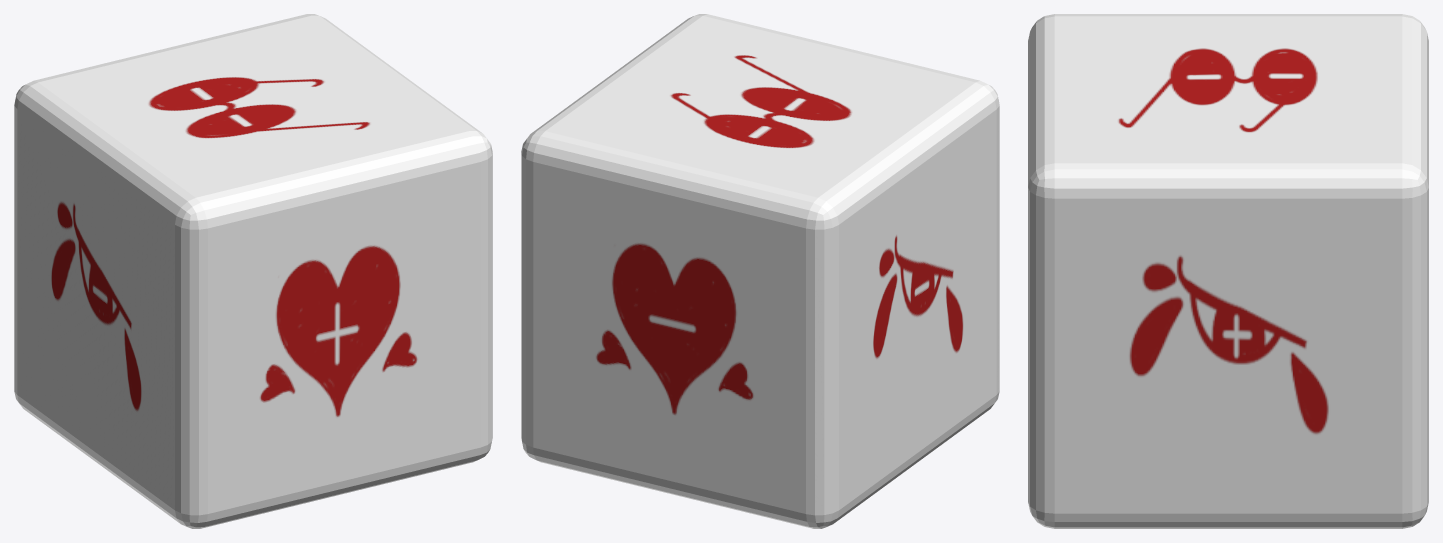
Rendered from Dice Symbol.fbx.
The picture shows the model from 3 angles, left to right: view 1: azimuth 30°, elevation 25°; view 2: azimuth 150°, elevation 25°; view 3: azimuth 270°, elevation 25°; orthographic projection. The views are drawn at different scales.
Parts seen in each view (by area): view 1: Cube; view 2: Cube; view 3: Cube.
Boxes of the visible parts, <box> form: Cube: <box>14,14,492,528</box>; Cube: <box>521,14,999,528</box>; Cube: <box>1028,14,1428,528</box>.
Bounding box in the file's own units: 200 × 200 × 200.
1 material, 1 textured.
